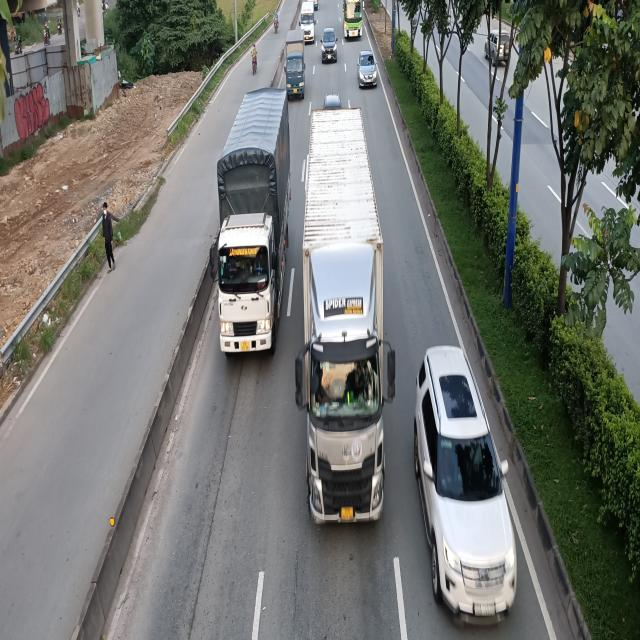car: (414, 343, 514, 623), (356, 46, 377, 86), (321, 26, 337, 64)
coach: (342, 0, 363, 38)
container: (294, 110, 394, 523)
truck: (213, 87, 292, 353), (283, 31, 306, 99)
van: (299, 2, 316, 42)
